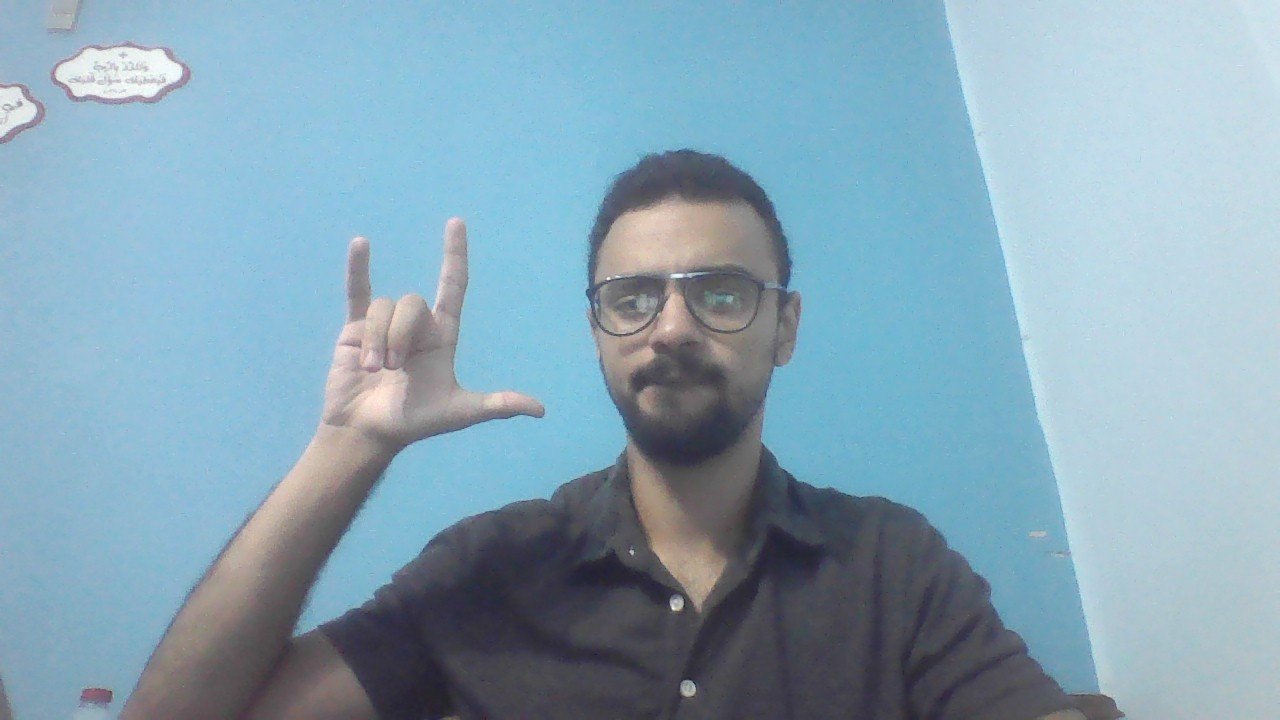love: (326, 219, 548, 435)
